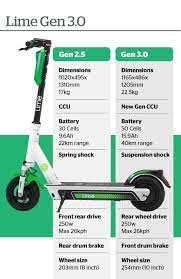kick_body: (53, 183, 130, 200)
kick_handler: (19, 36, 50, 51)
kick_neck: (29, 53, 49, 158)
kick_wheel: (128, 175, 164, 212), (7, 177, 39, 210)
